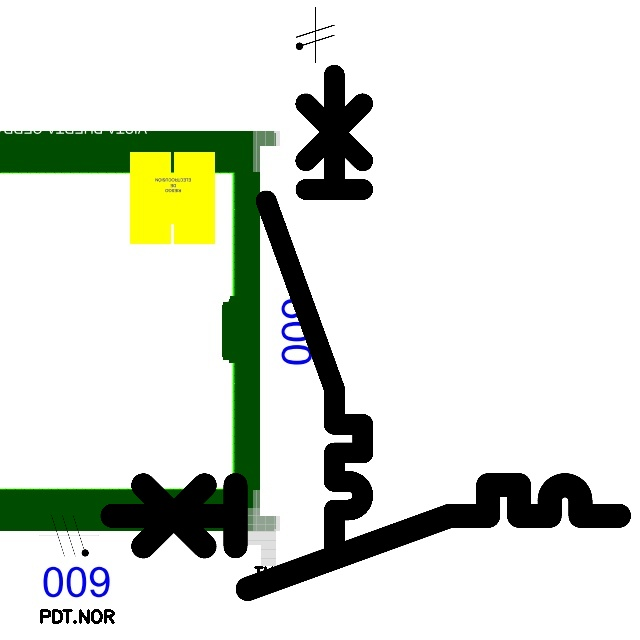interruptor_termomagnetico: (99, 472, 632, 602), (254, 62, 375, 557)
